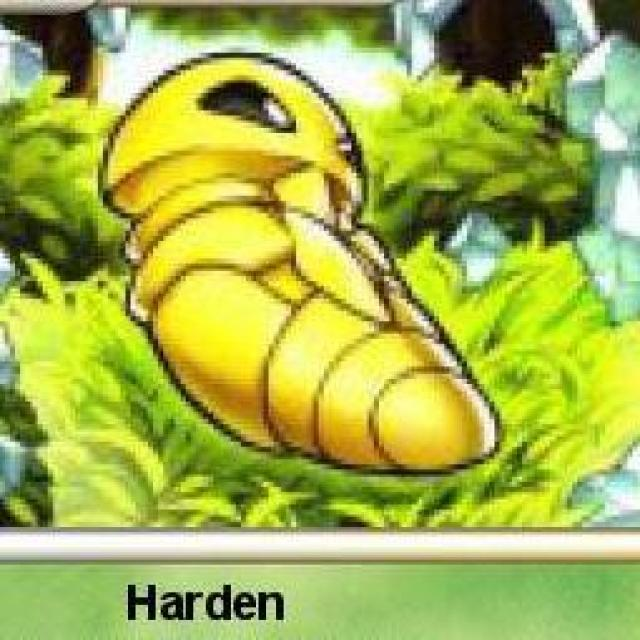Kakuna: (104, 49, 507, 483)
